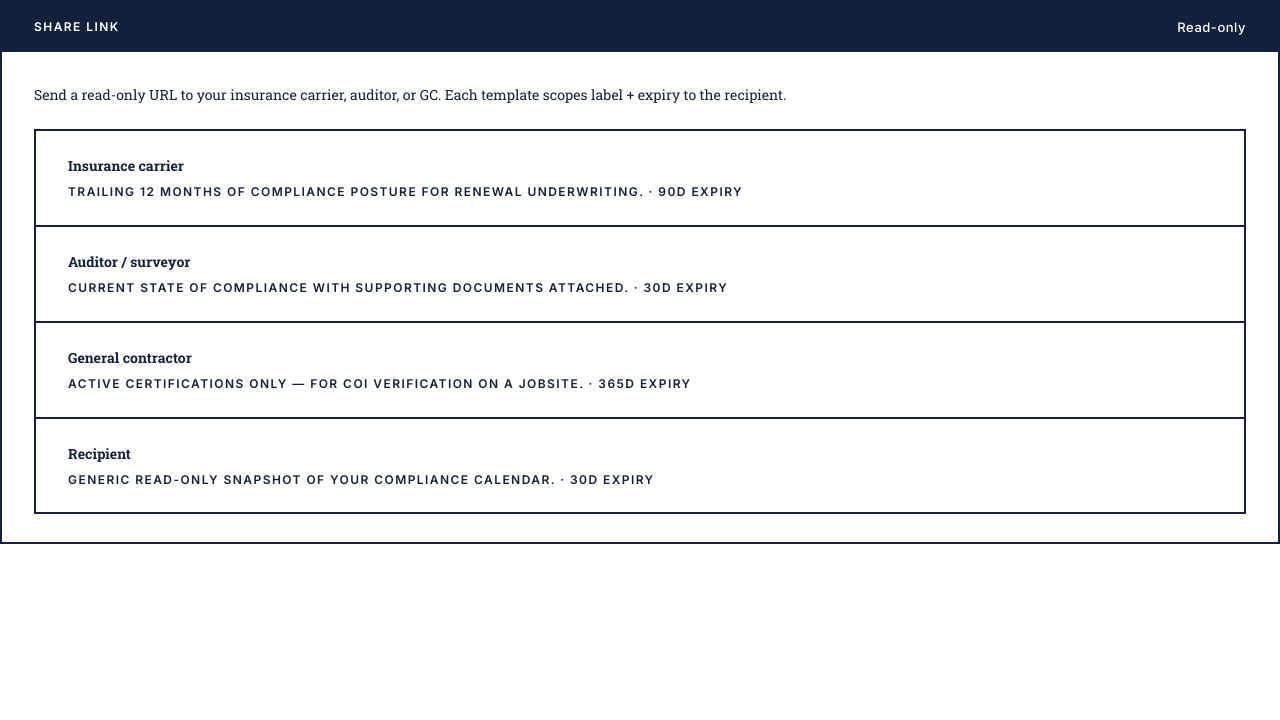
Test case: ShareLink › when canShare is true › shows the share URL after successful generation
The image size is (1280, 720).
Click the button "Insurance carrier" at (126,166), box 34,129 -> 1246,227
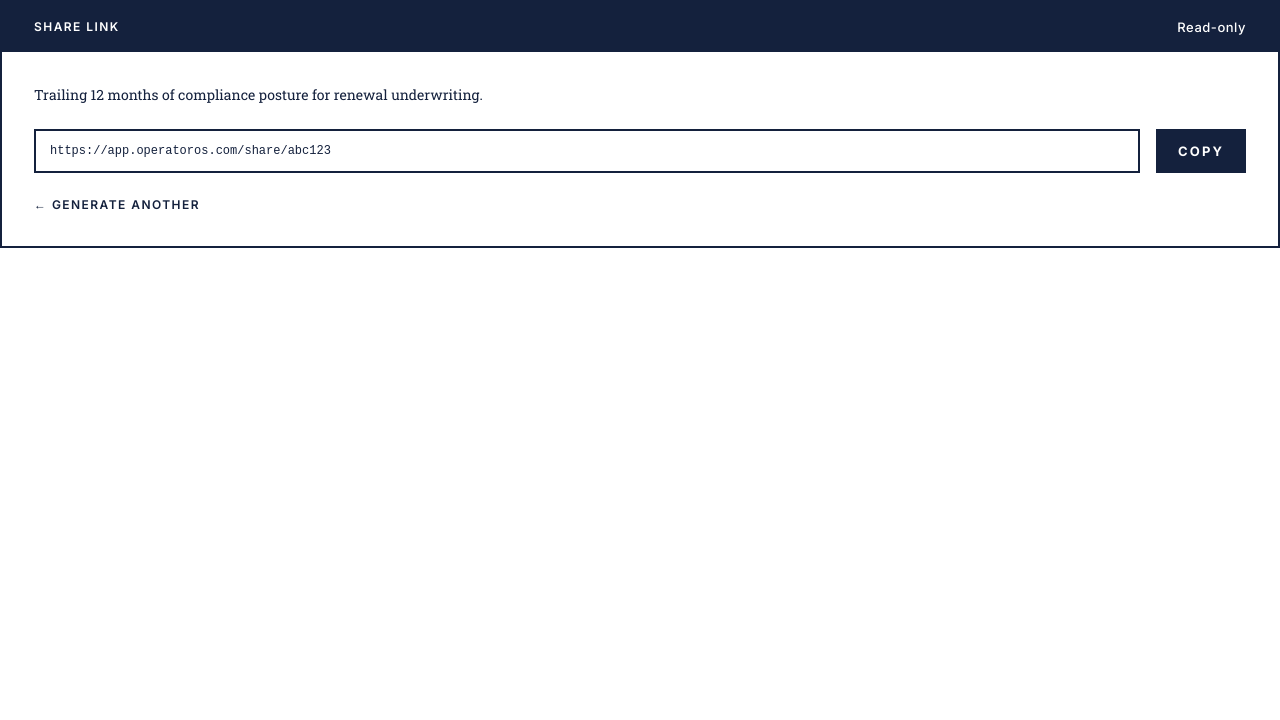
Now the field holds "https://app.operatoros.com/share/abc123", box 34,129 -> 1140,173
